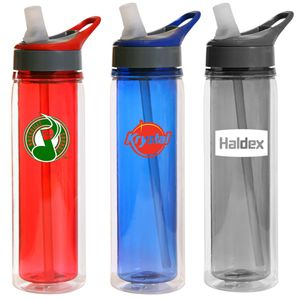Rec_Plastic: (103, 2, 192, 296), (203, 1, 288, 299), (12, 6, 90, 292)
